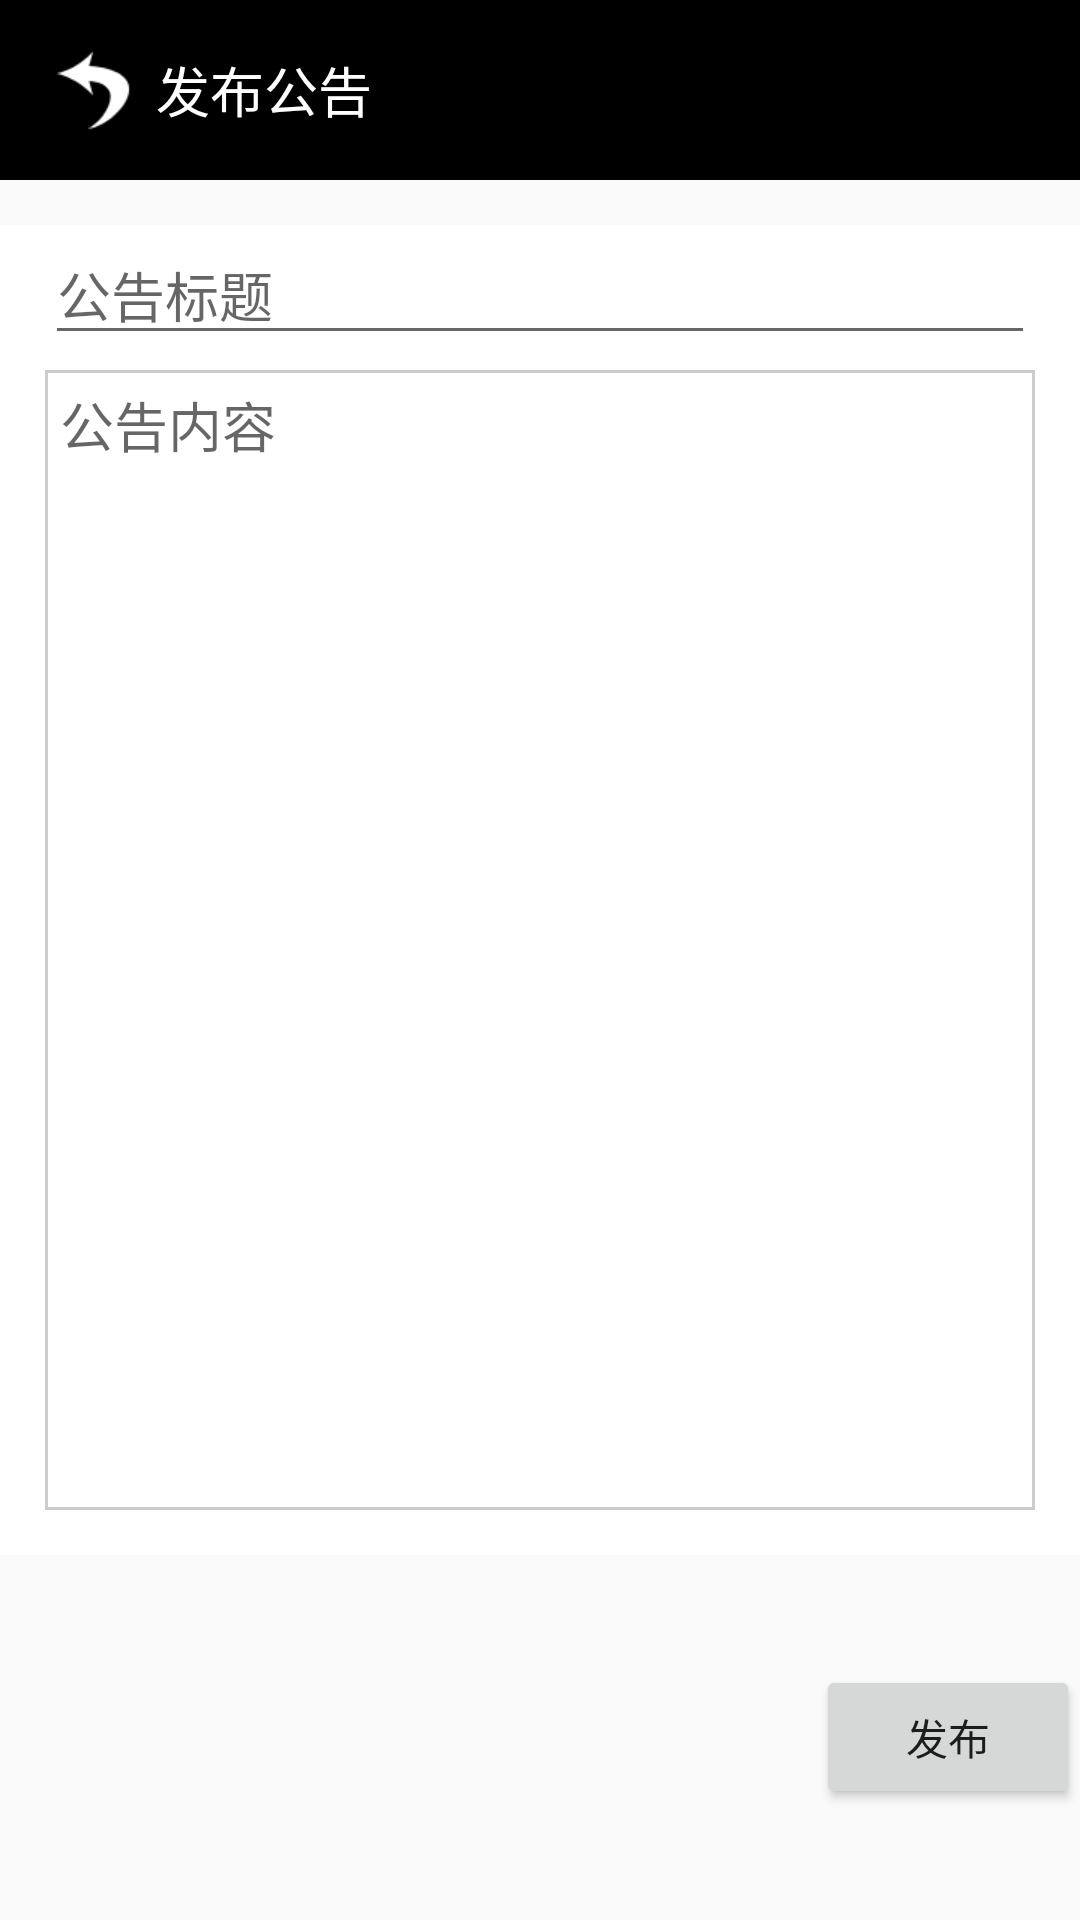

Icon click points for this 1080w x 1920h phone screenshot, format (x=x, y=y):
back: (x=93, y=90)
